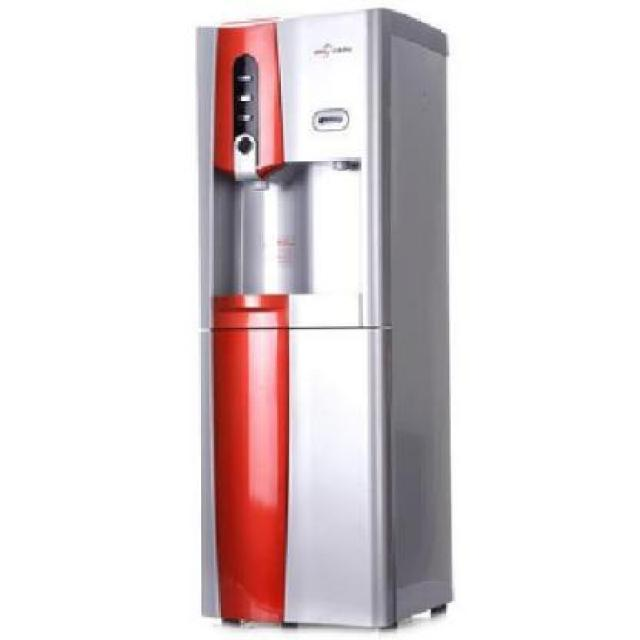cooler: (191, 4, 460, 640)
